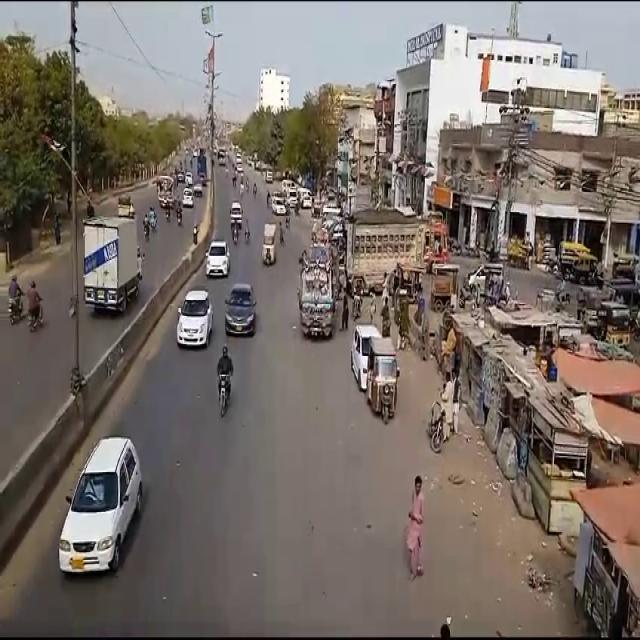car: (57, 434, 145, 574), (176, 288, 214, 348), (224, 283, 256, 337), (206, 241, 232, 278), (270, 193, 288, 215), (184, 190, 195, 208), (231, 202, 243, 216)
truck: (320, 214, 430, 306), (78, 214, 145, 317)
